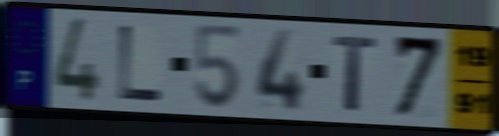4: (252, 26, 311, 115), (52, 15, 104, 105)
5: (193, 23, 243, 113)
7: (391, 33, 445, 119)
L: (116, 21, 167, 104)
T: (331, 32, 380, 114)
